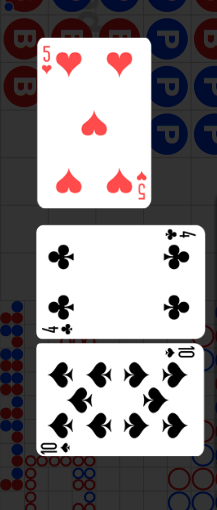10S: (40, 440, 73, 454)
4C: (163, 228, 197, 243)
5H: (41, 45, 54, 76)
